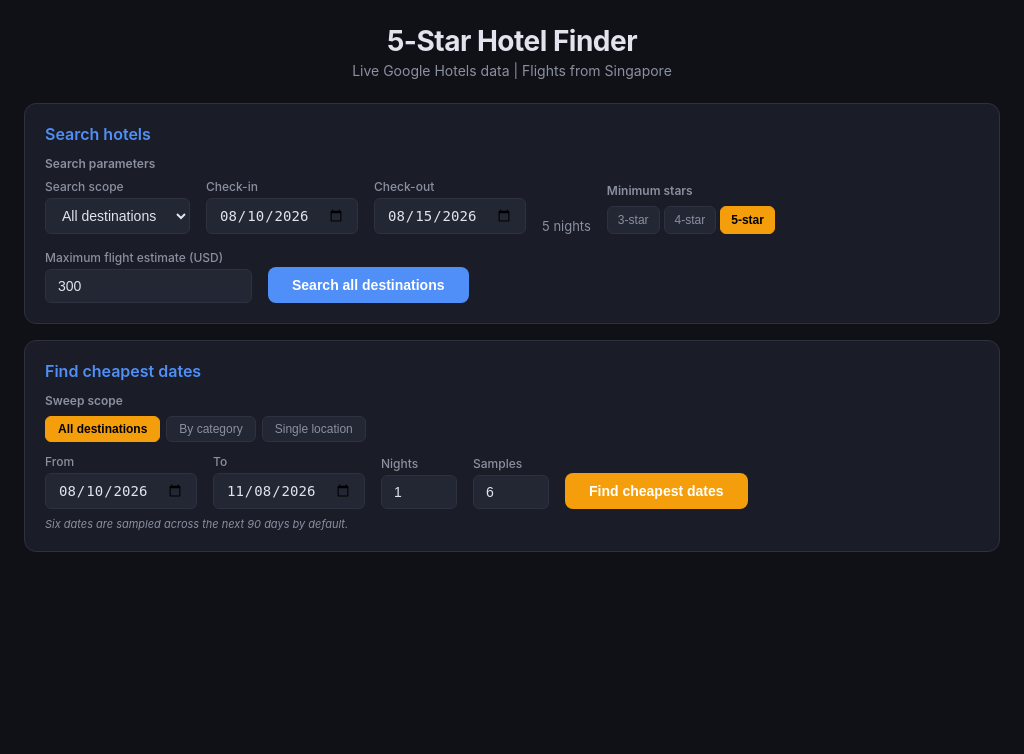
Scenario: latest search and comparison ownership › deduplicates a sourced destination warning mirrored without source
Expected: the button "Find cheapest dates" is enabled, [565,473,748,509]
Click the button "Search all destinations": (368, 285) [268,267,468,303]
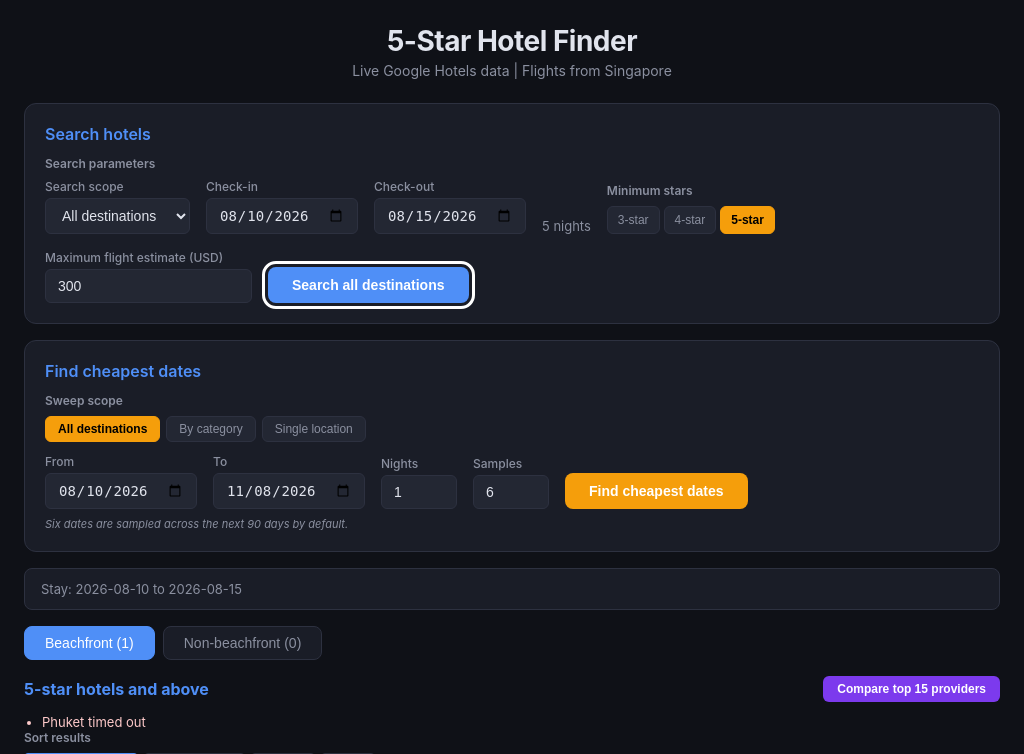
Now the number of list items is 1, box [42,714,146,730]
Now the list named "Search warnings" reads "Phuket timed out", box [42,714,146,730]
